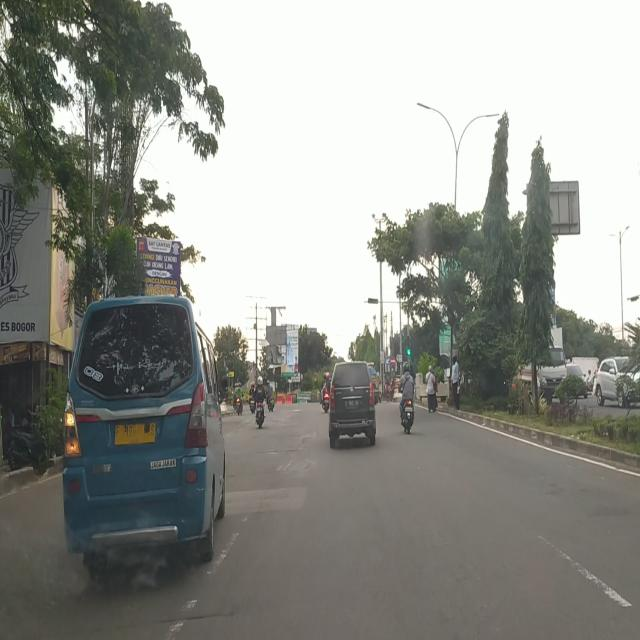Sewer Cover: (149, 611, 236, 628)
